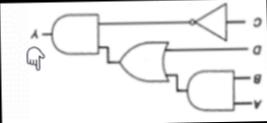and: (48, 8, 102, 60), (182, 67, 241, 114)
not: (187, 0, 230, 43)
or: (117, 34, 170, 91)
